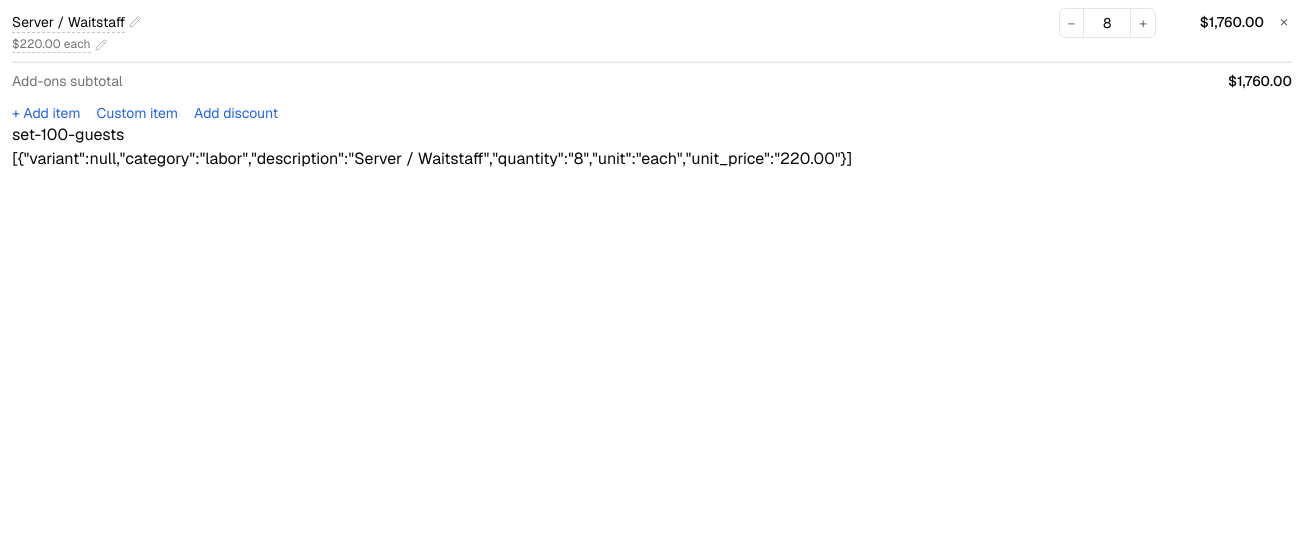
Test case: AddOnItemsEditor — the catalogue picker › esc inside a line's price editor closes that editor, not the picker
This screenshot has width=1304, height=545.
Click the button "+ Add item" at (46, 113), box [12, 103, 80, 123]
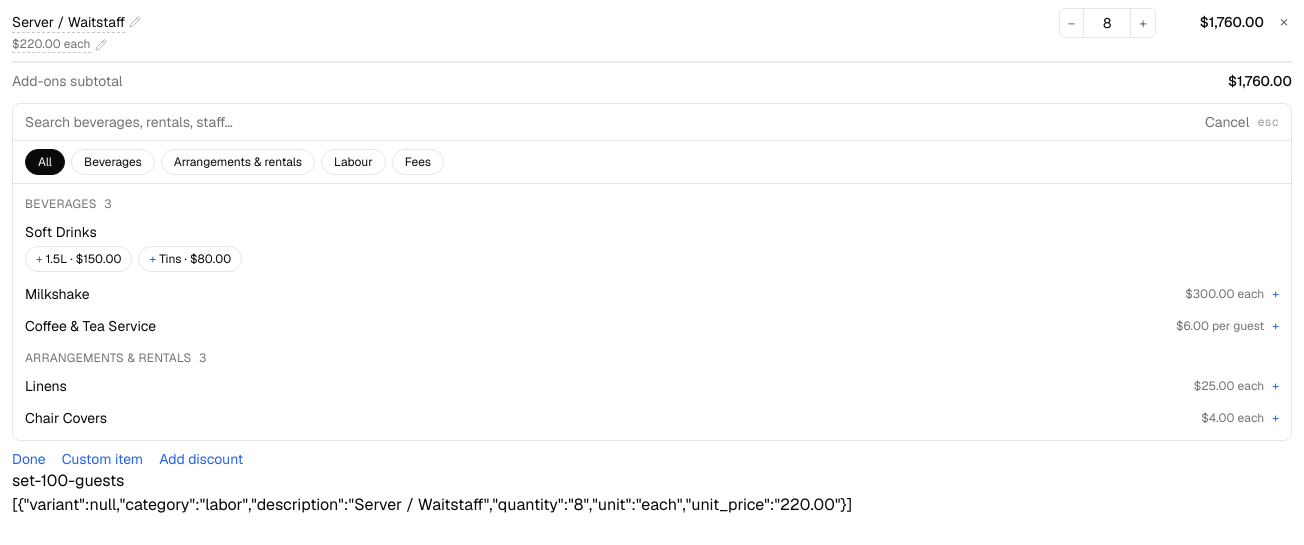
Click the button with aria-label "Edit price and unit" at (59, 44), box [12, 36, 107, 53]
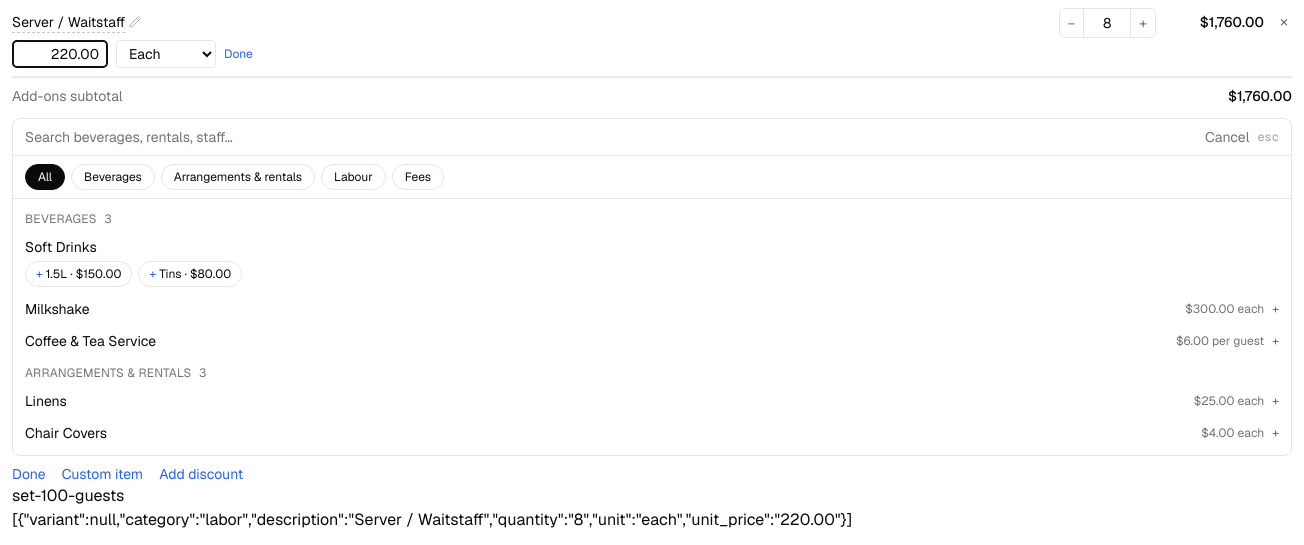
Press Escape in the number field named "Unit price", box [12, 40, 108, 68]
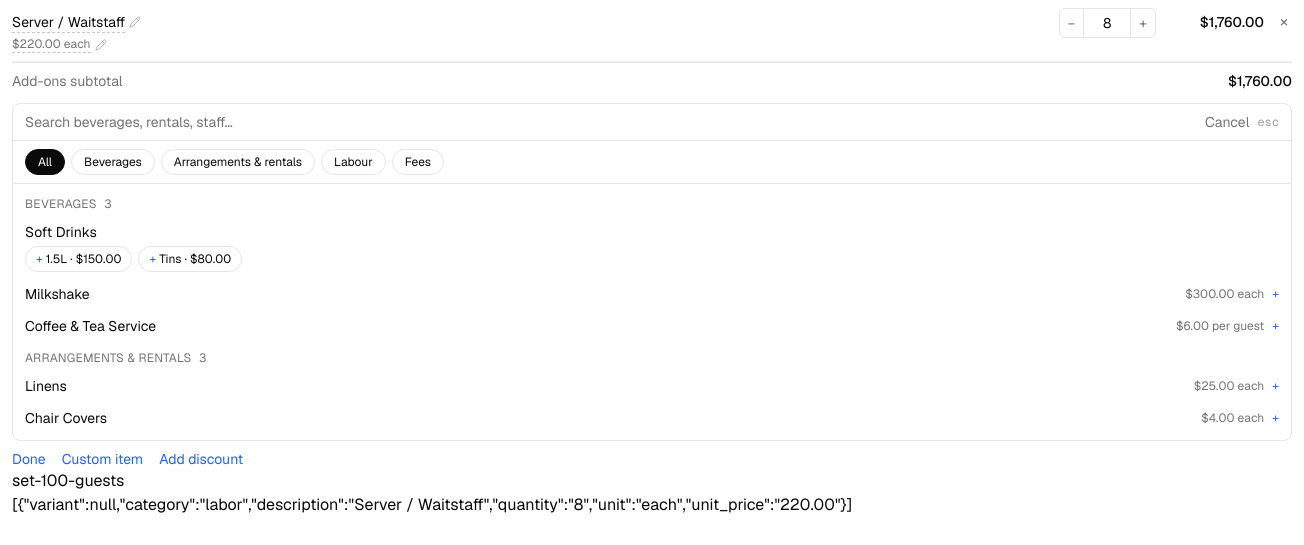
Check: the element with test id "addon-picker" is shown
Check: the button with aria-label "Edit price and unit" is shown, box [12, 36, 107, 53]
